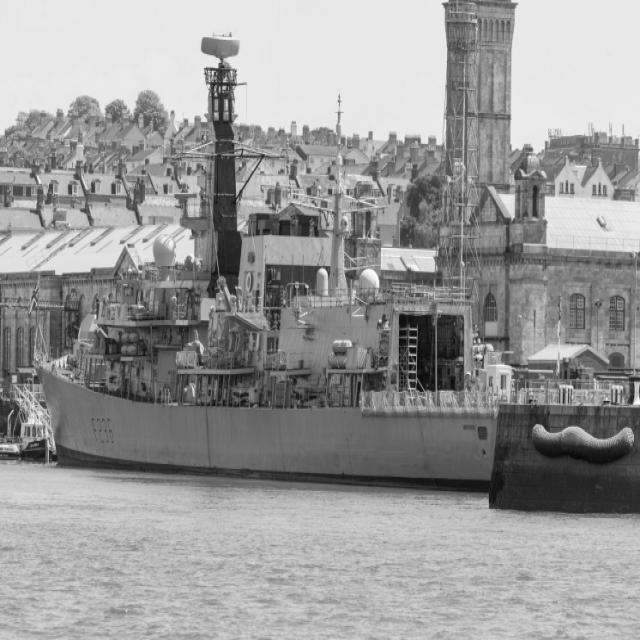Fragata: (30, 28, 523, 480)
